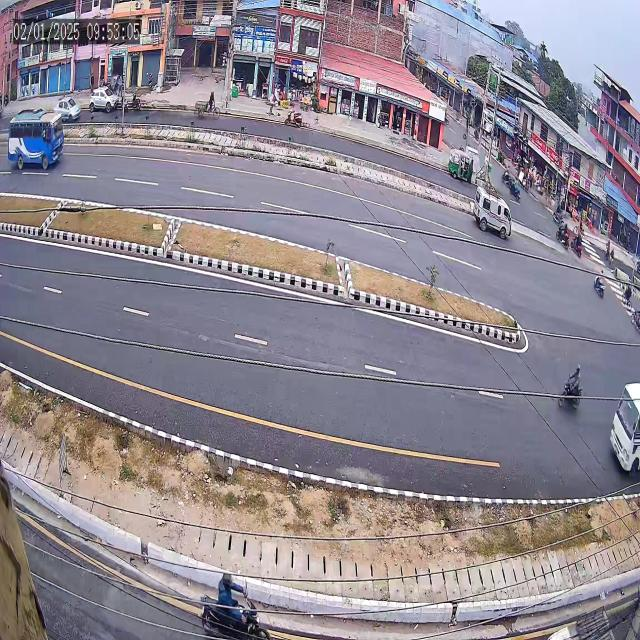bus: (5, 98, 67, 184)
car: (81, 75, 122, 122), (54, 89, 84, 126)
motorcycle: (185, 530, 284, 640), (553, 358, 594, 418), (549, 212, 572, 258), (593, 266, 608, 304)
van: (472, 180, 517, 251)
